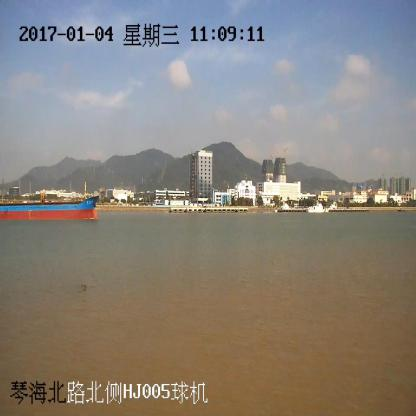Bulk Carrier: (0, 183, 99, 221)
